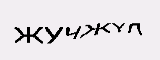Ж: (12, 25, 44, 45), (80, 23, 113, 39)
Л: (123, 22, 145, 37)
У: (44, 26, 65, 46)
Ч: (64, 24, 81, 42)
Ү: (111, 19, 125, 34)
